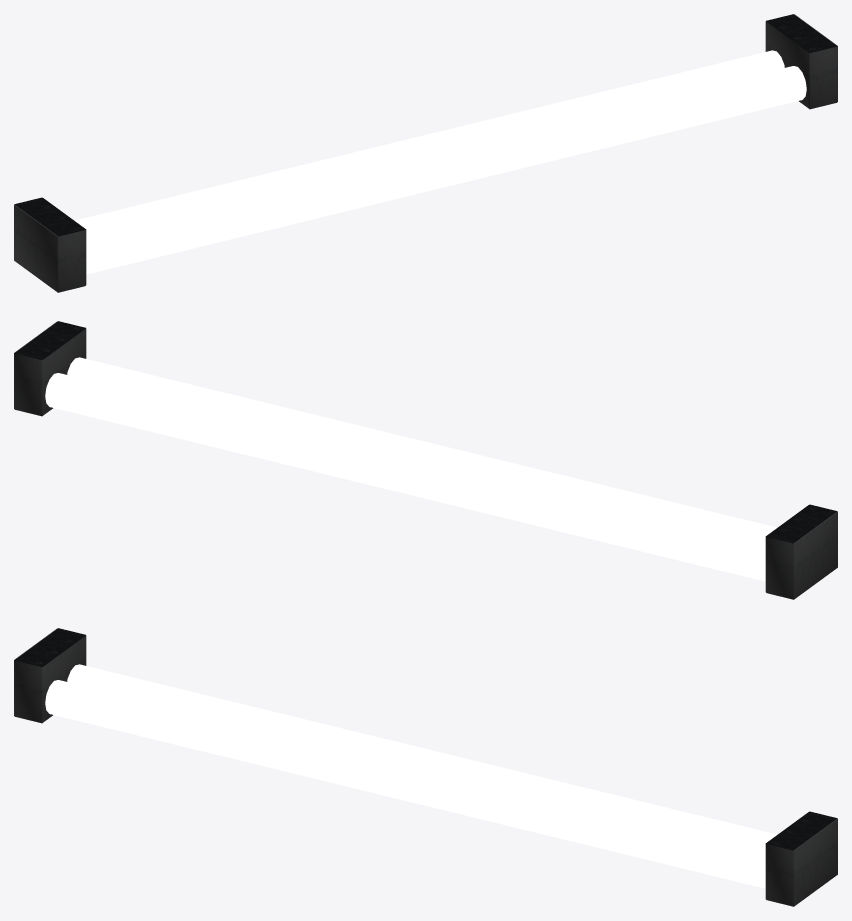
Rendered from Lights.fbx.
3 views of the same model, one above another, from view 1: azimuth 30°, elevation 25°; view 2: azimuth 150°, elevation 25°; view 3: azimuth 330°, elevation 25° (orthographic).
Visible parts, largest first — view 1: Lights; view 2: Lights; view 3: Lights.
Part boxes in pixels (<box>): Lights: <box>14,14,837,292</box>; Lights: <box>14,321,837,599</box>; Lights: <box>14,628,837,906</box>.
Bounding box in the file's own units: 1.96 × 0.1358 × 0.1923.
